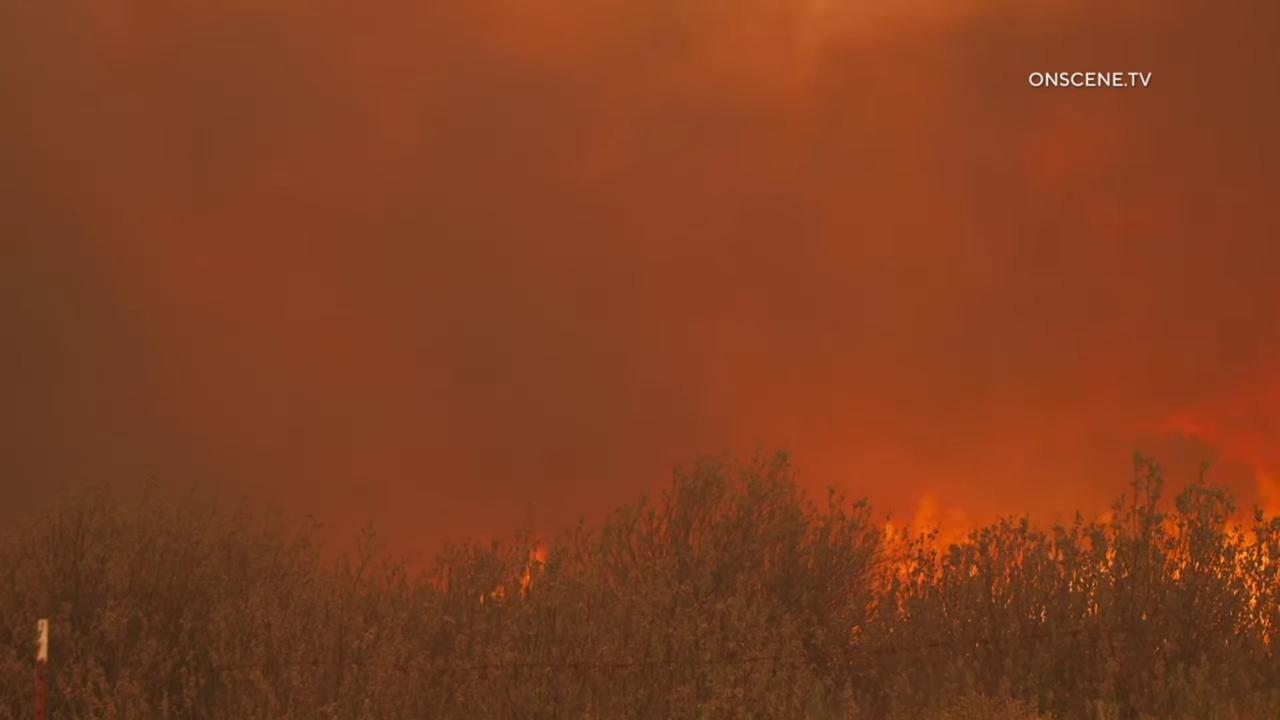fire: (471, 535, 551, 600)
smoke: (0, 0, 1280, 674)
